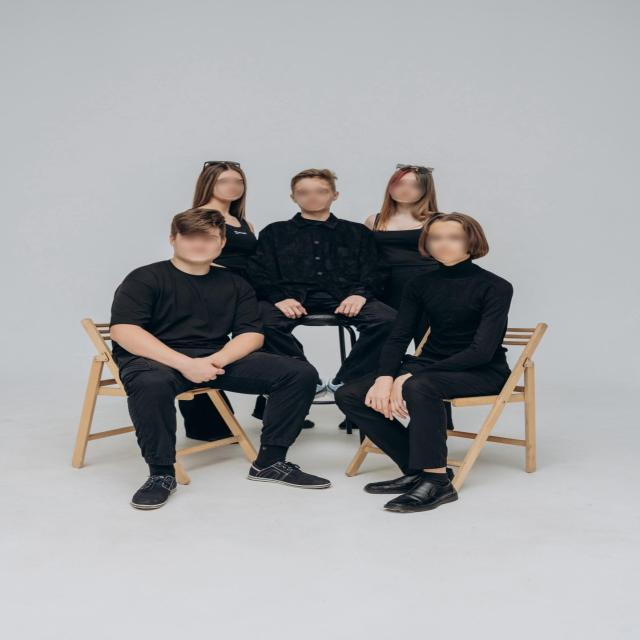Person: (100, 208, 334, 548), (347, 207, 531, 518), (253, 163, 375, 342), (346, 154, 454, 254), (188, 151, 271, 253)
